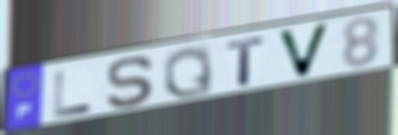8: (339, 15, 382, 71)
L: (52, 69, 95, 120)
Q: (161, 45, 215, 100)
S: (104, 53, 158, 110)
T: (225, 34, 268, 88)
V: (274, 21, 333, 81)
